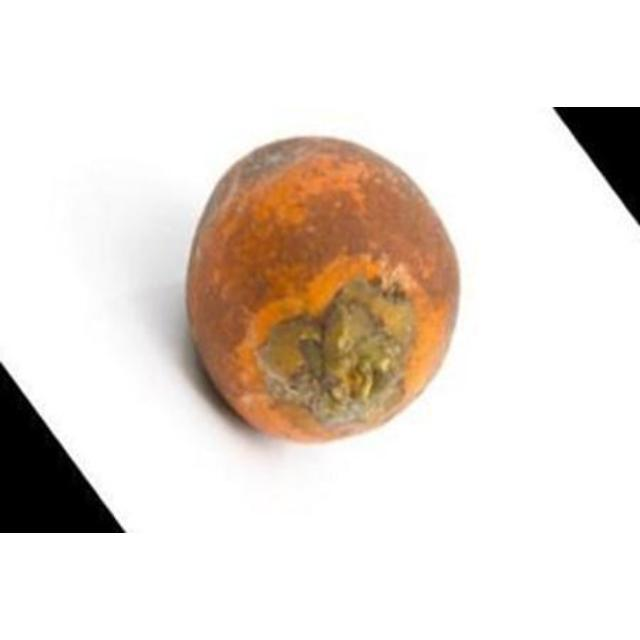good: (185, 138, 459, 445)
